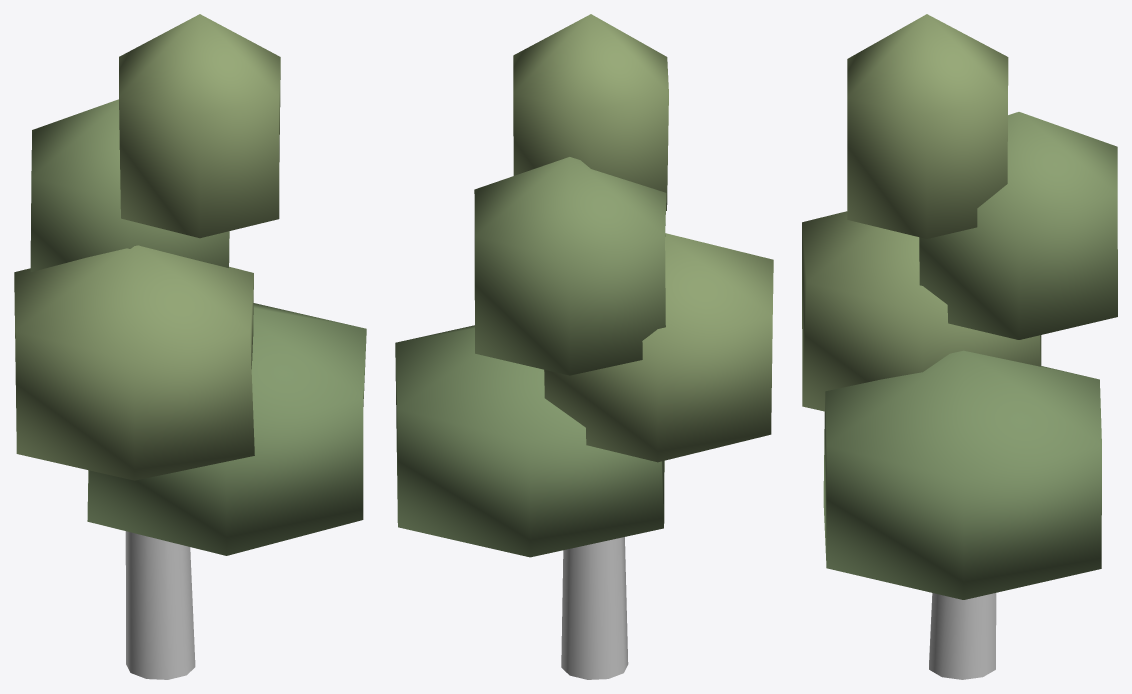
Rendered from pine_v3_mid.gltf.
3 renders of one model, left to right at view 1: azimuth 30°, elevation 25°; view 2: azimuth 150°, elevation 25°; view 3: azimuth 270°, elevation 25°, orthographic. The views are drawn at different scales.
Visible parts, largest first — view 1: foliage, bark; view 2: foliage, bark; view 3: foliage, bark.
Part boxes in pixels (left/top/right/bottom): foliage: left=14, top=14, right=366, bottom=555; bark: left=125, top=531, right=195, bottom=679; foliage: left=395, top=14, right=773, bottom=557; bark: left=561, top=537, right=628, bottom=679; foliage: left=802, top=14, right=1117, bottom=599; bark: left=929, top=593, right=996, bottom=679.
Size of the model in its own units: 2.7 by 4.58 by 1.98.
